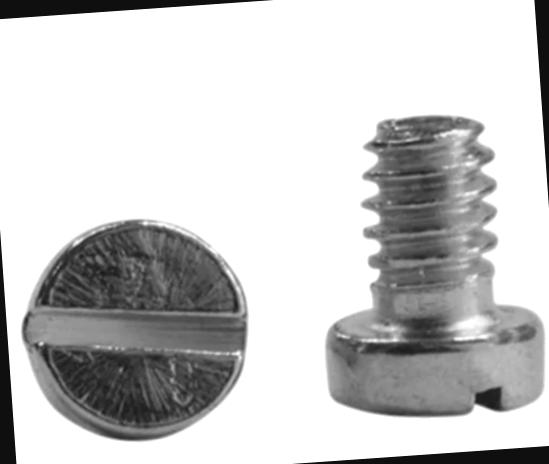slotted: (17, 211, 252, 448)
